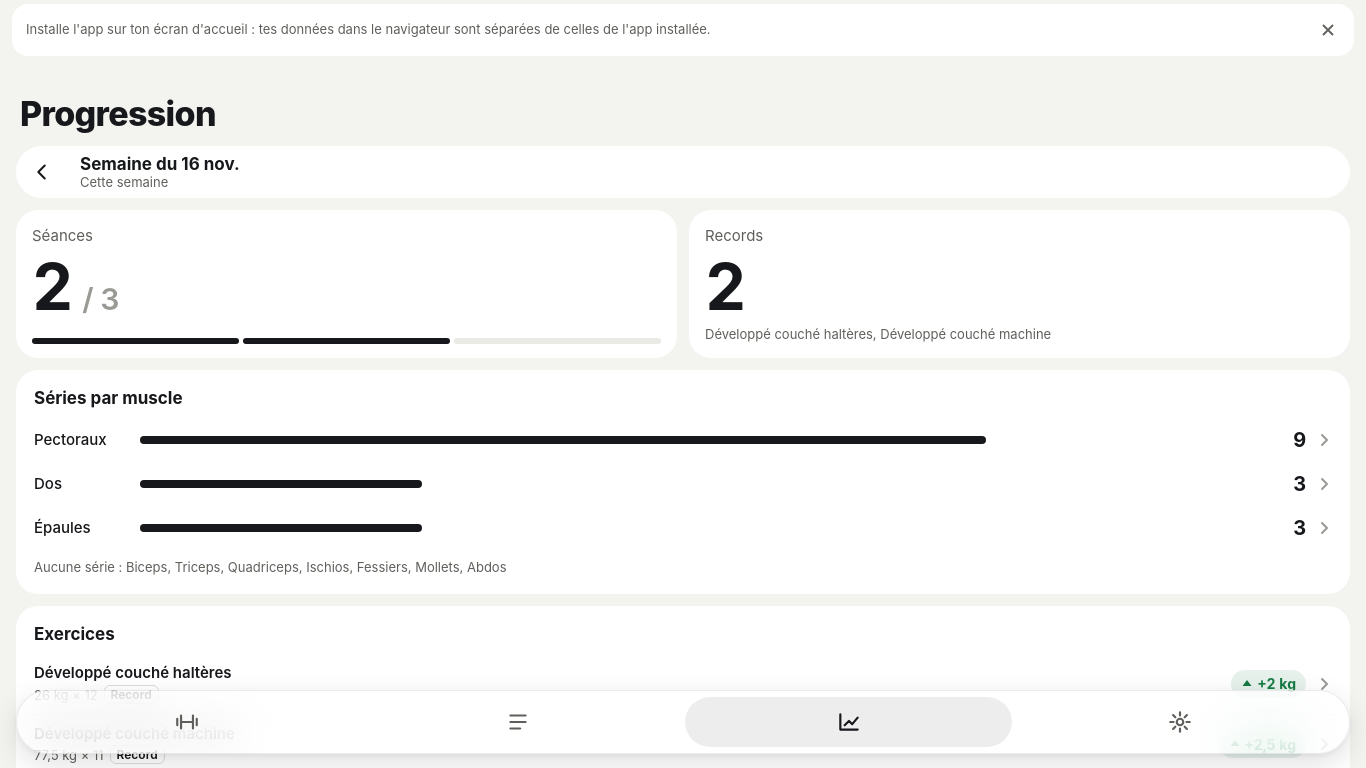
it: Progression › le tap sur « Pectoraux » ouvre le détail avec uniquement les exercices pectoraux
This screenshot has width=1366, height=768.
Click the button "Pectoraux 9".
click(683, 440)  # box [32,418,1334,462]
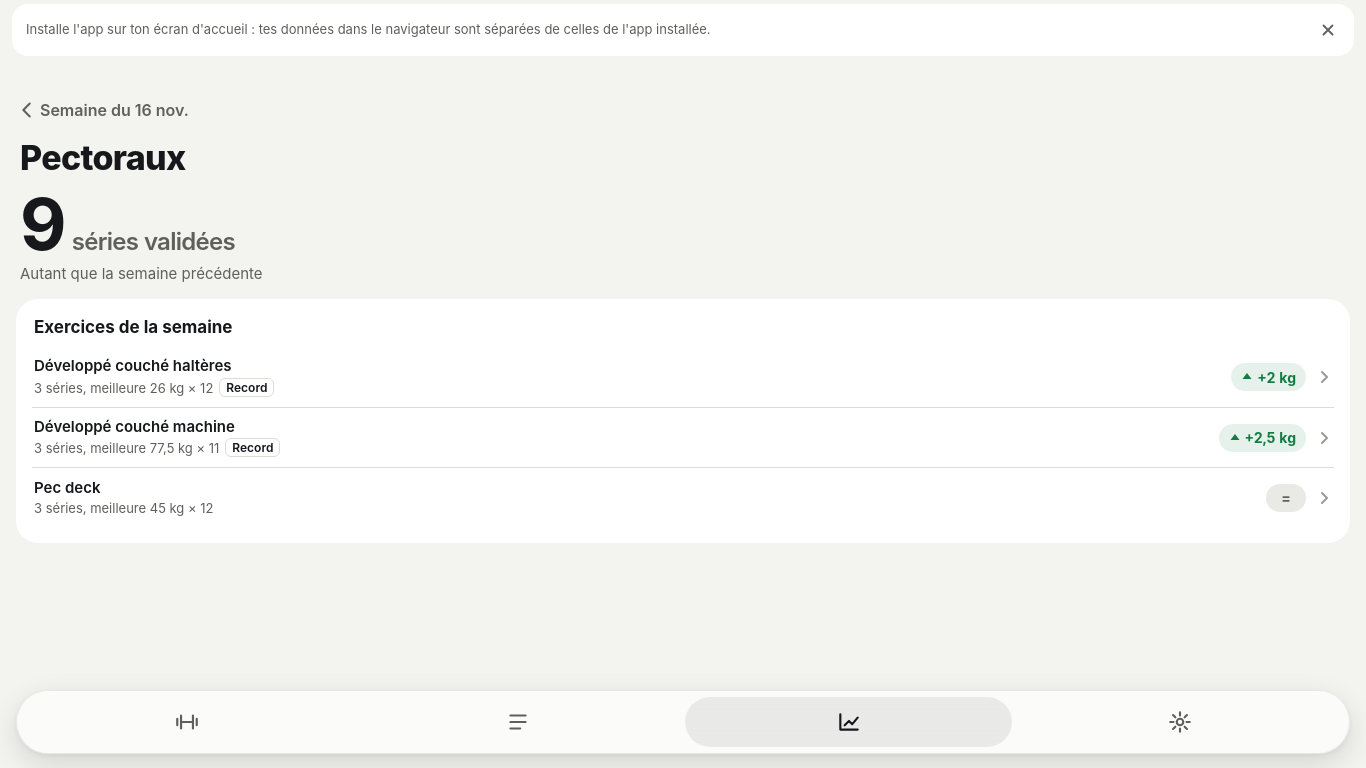
Now the heading "Pectoraux" is shown, box [20,137,186,178]
